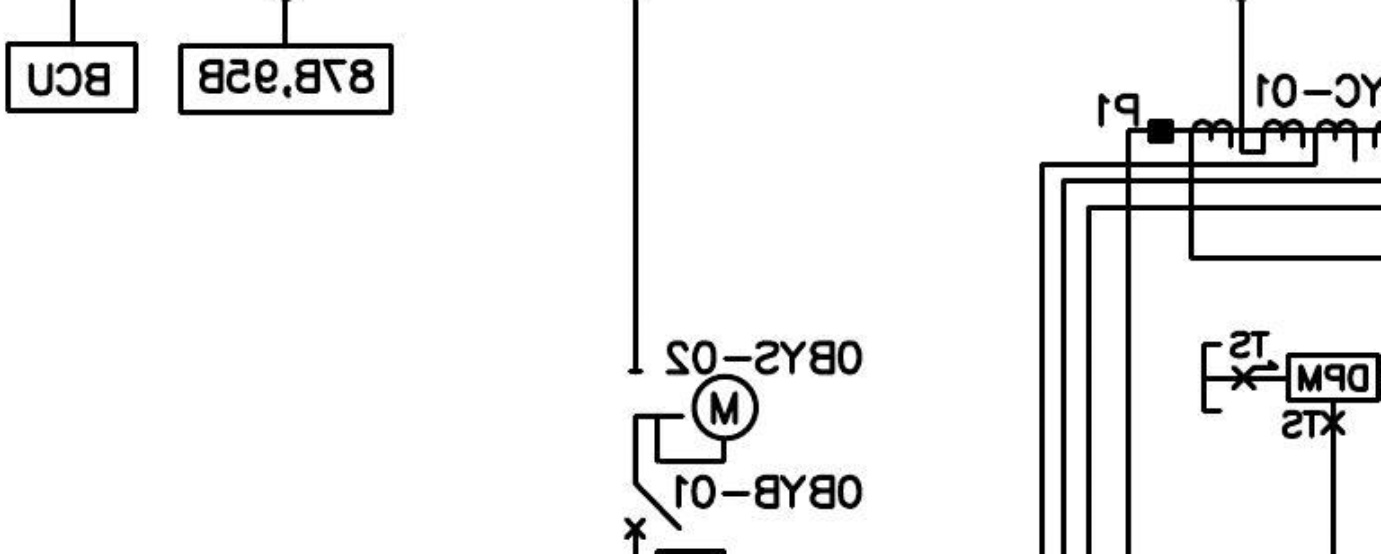115_1way_ds_w_motor: (627, 368, 761, 465)
115_breaker: (623, 481, 682, 541)
BCU: (3, 40, 140, 115)
